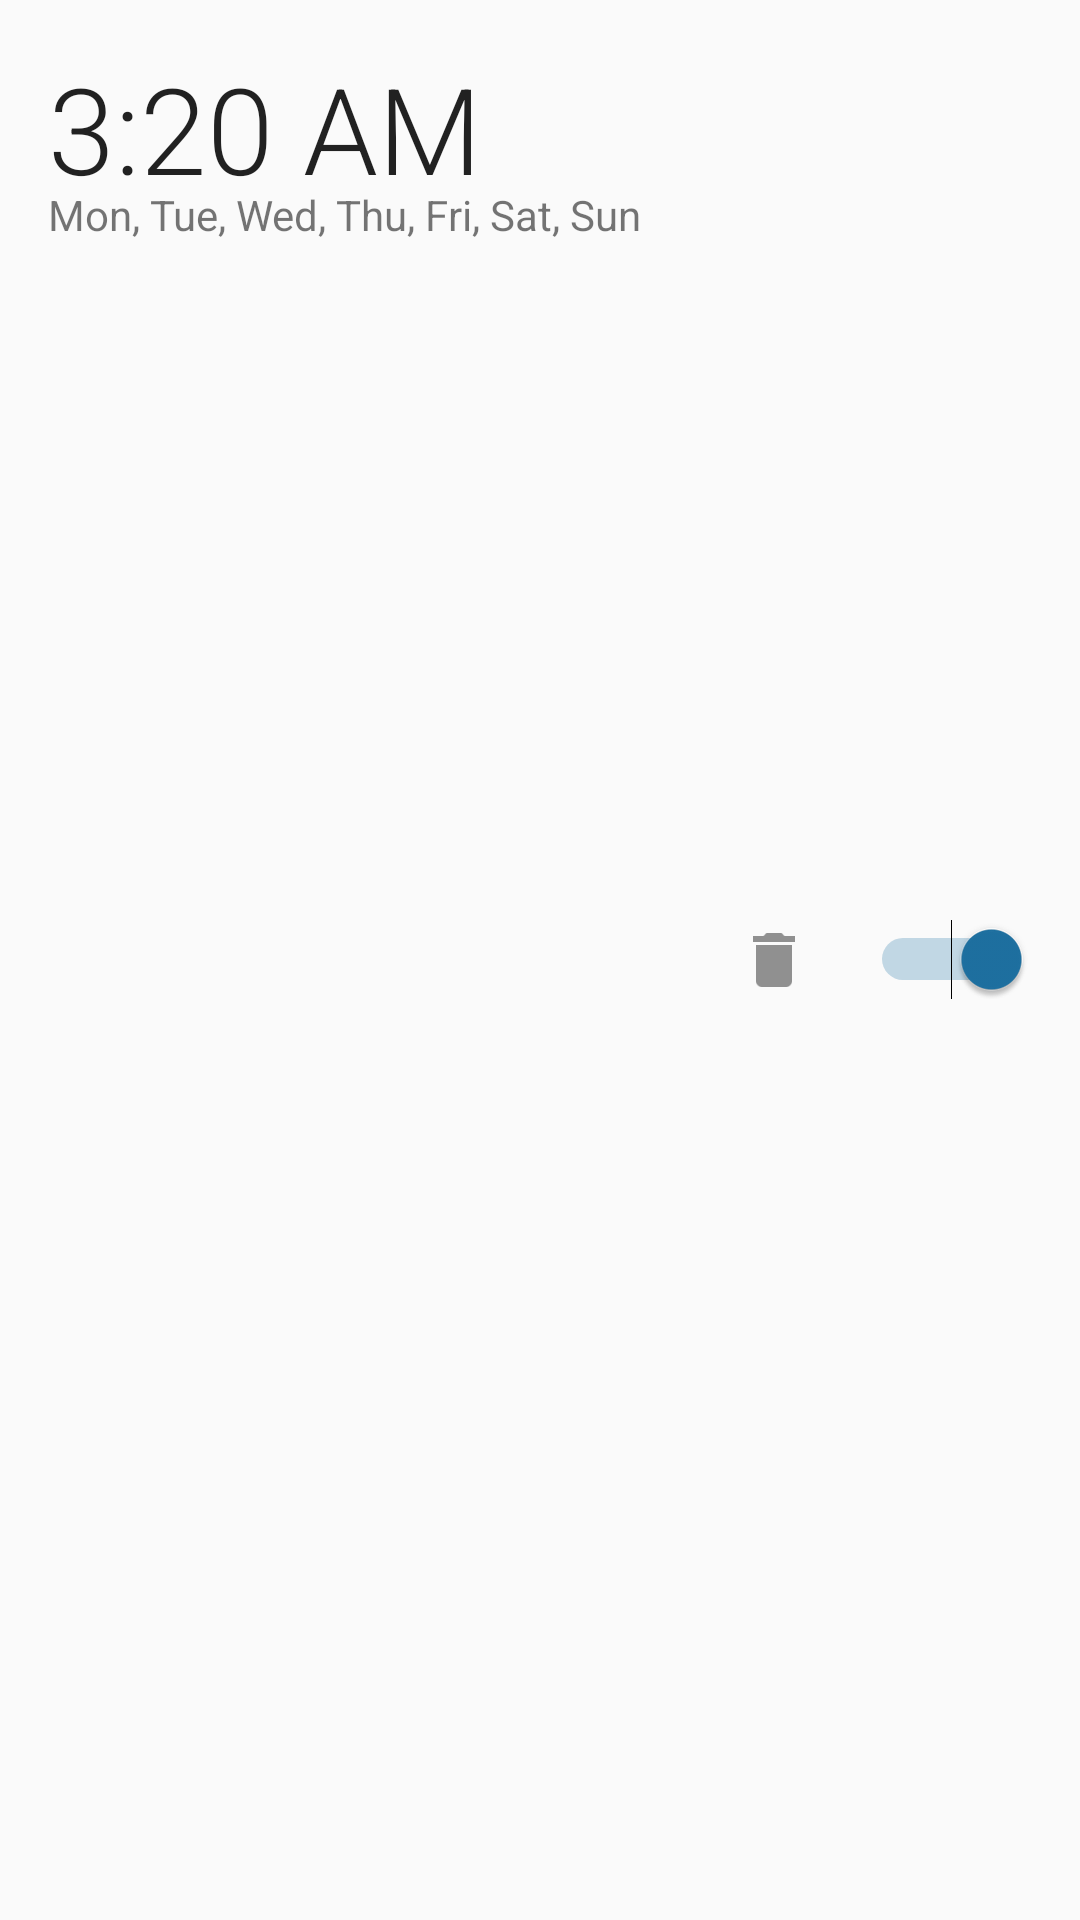

Locate icon controls on the screen. Image size 1080px x 1920px, boxes as (x1, y1, x2, y2).
delete: (753, 933, 795, 987)
